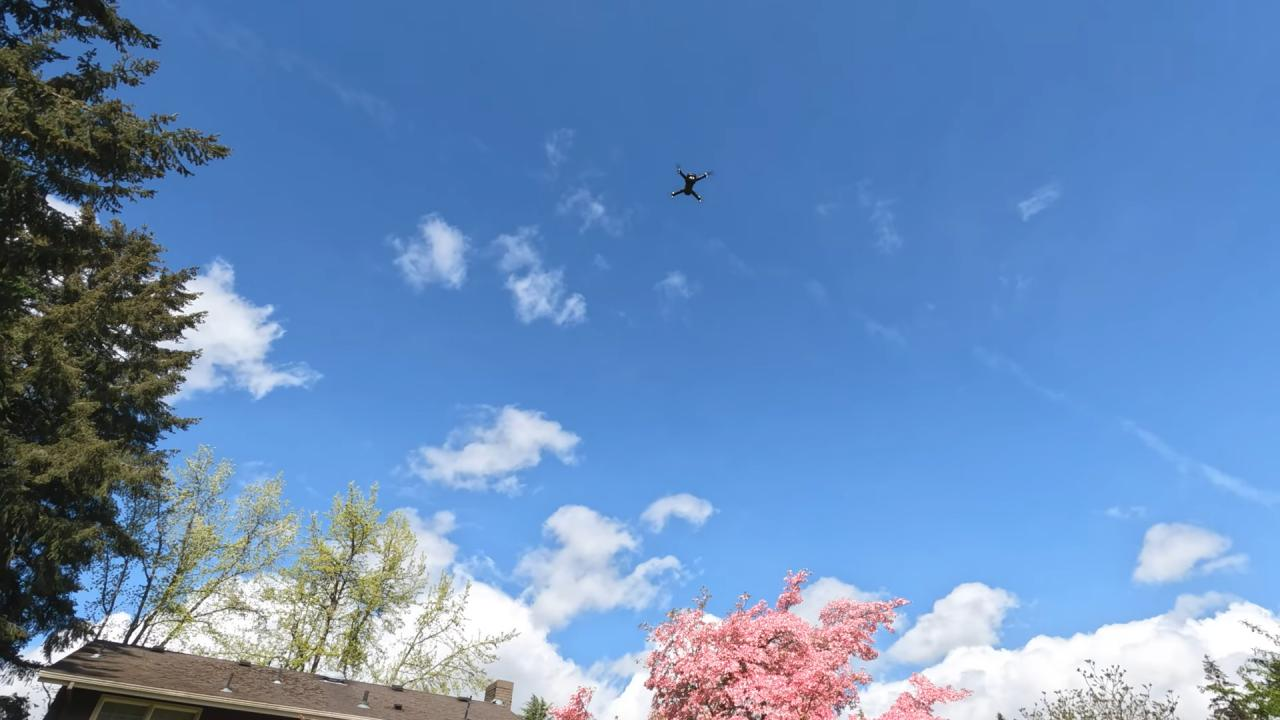Drone: (659, 157, 720, 215)
